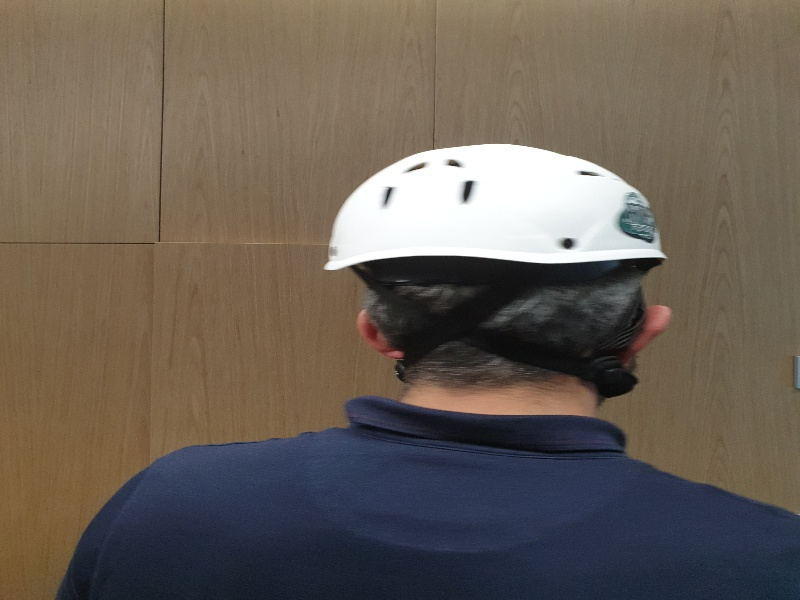Baret: (320, 142, 669, 280)
